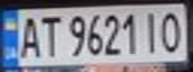1: (121, 9, 142, 55)
2: (103, 10, 124, 56)
6: (84, 10, 106, 57)
9: (63, 11, 87, 57)
A: (15, 12, 42, 60)
I: (139, 8, 163, 55)
O: (157, 7, 187, 54)
T: (36, 11, 63, 58)
